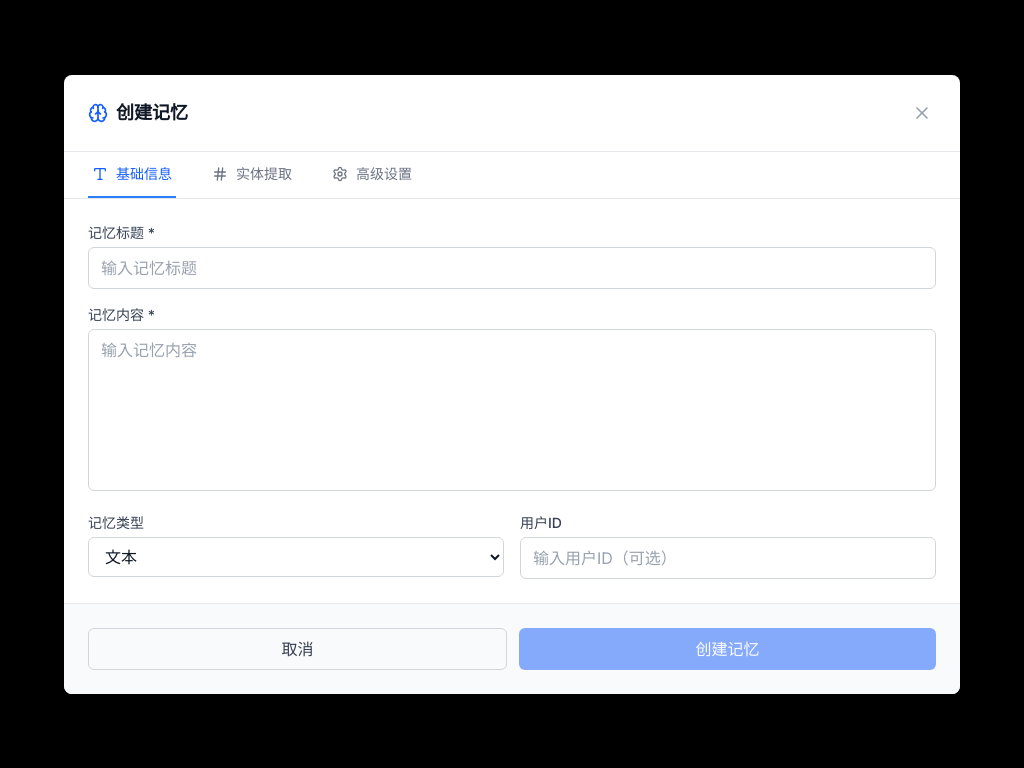
Scenario: MemoryCreateModal › handles extraction
Note: Fill content
Type "Content" into the text box with placeholder "输入记忆内容" at (512, 410), box top-left (88, 328), bottom-right (936, 490)
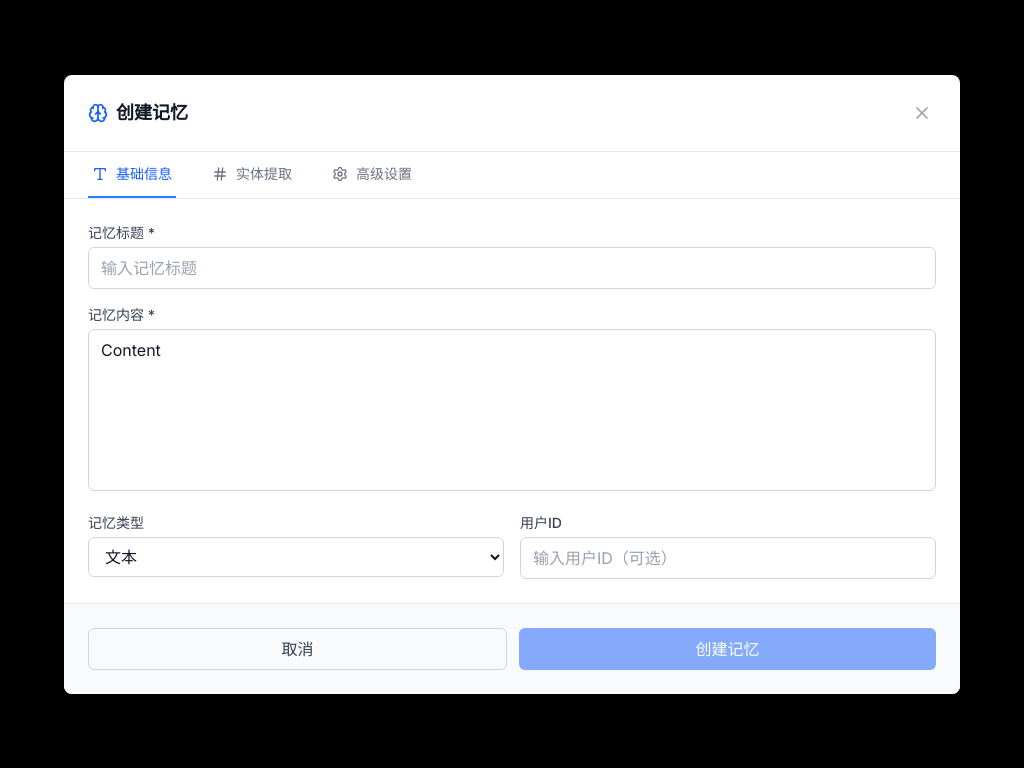
Note: Switch to extraction tab - need to find tab button
Click the button "实体提取" at (252, 174), box top-left (208, 152), bottom-right (296, 198)
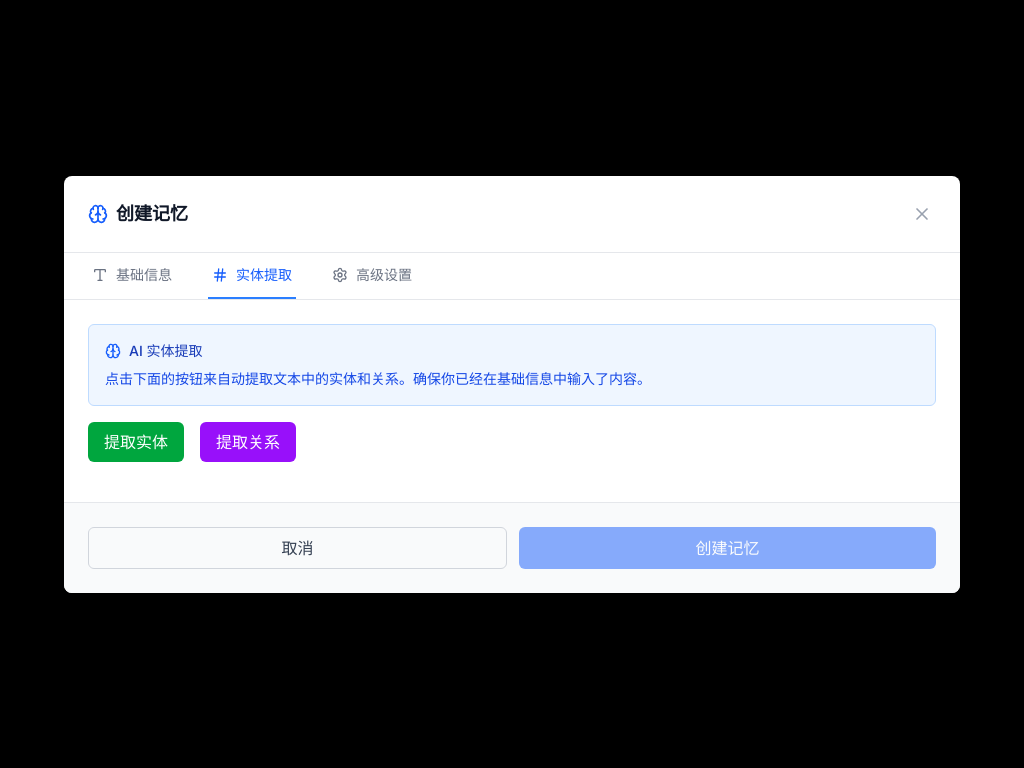
Note: Click extract buttons
Click the button "提取实体" at (136, 442), box top-left (88, 422), bottom-right (184, 462)
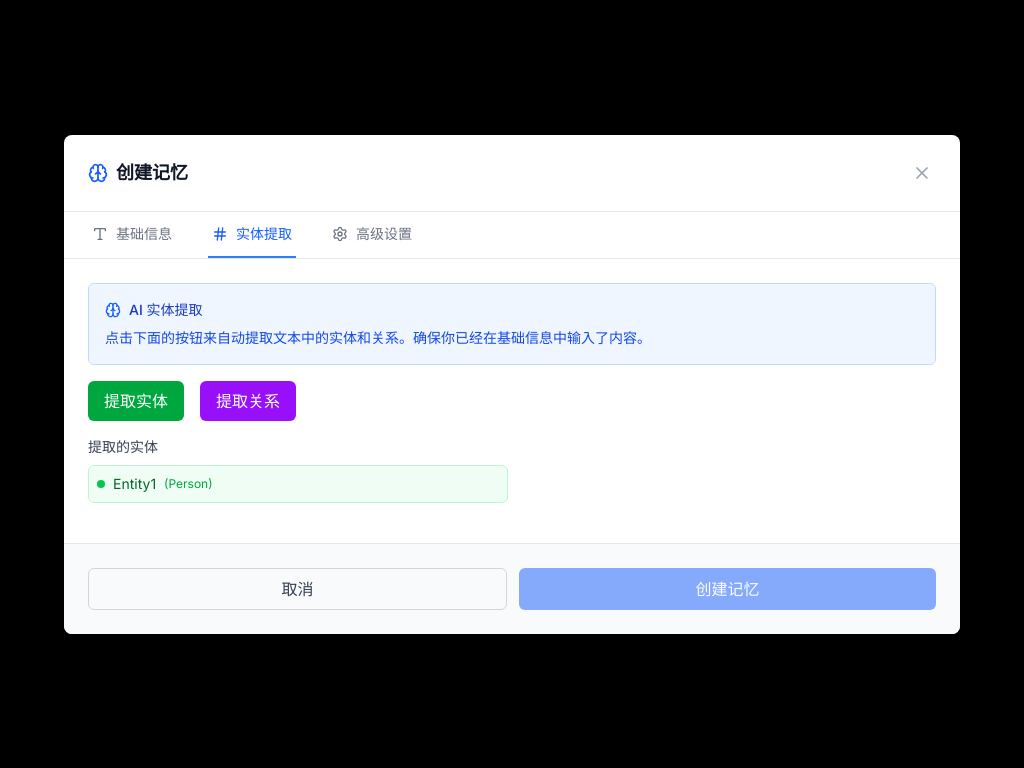
Expected: the text "Entity1" is shown, top-left (113, 474), bottom-right (156, 494)
